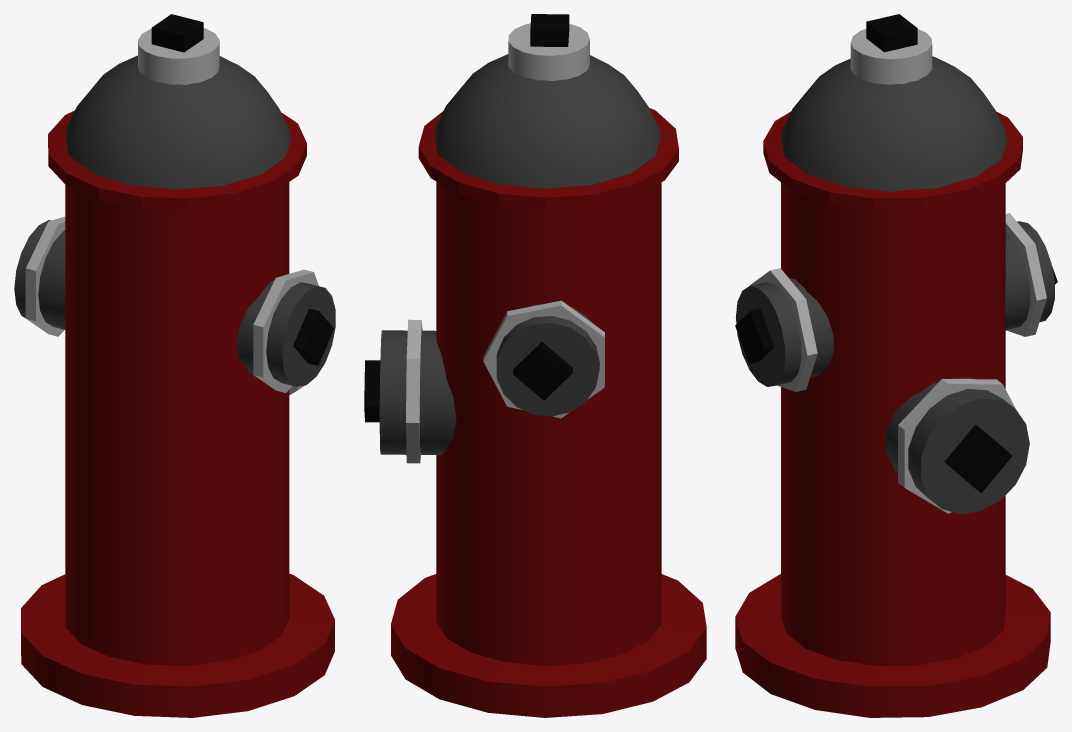
File: yangin.fbx
3 views of the same model, side by side, from view 1: azimuth 30°, elevation 25°; view 2: azimuth 150°, elevation 25°; view 3: azimuth 270°, elevation 25° (orthographic).
Parts seen in each view (by area): view 1: pSphere3; view 2: pSphere3; view 3: pSphere3.
Boxes of the visible parts, box(x1,y1,x2,y2) form: pSphere3: box(14, 14, 335, 717); pSphere3: box(364, 14, 706, 717); pSphere3: box(735, 14, 1057, 717).
Size of the model in its own units: 5.12 by 10.58 by 4.92.
